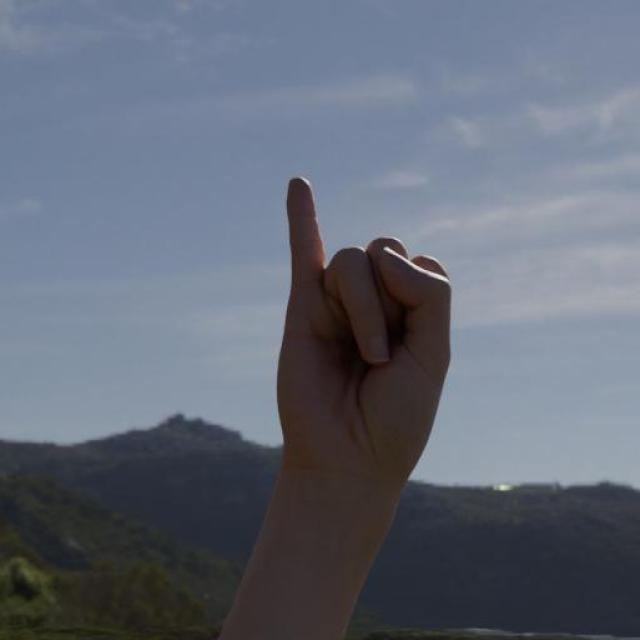I: (236, 146, 490, 510)
